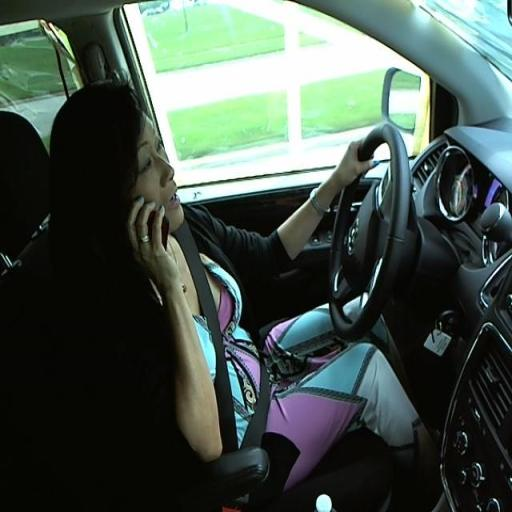talking_phone: (57, 92, 407, 446)
